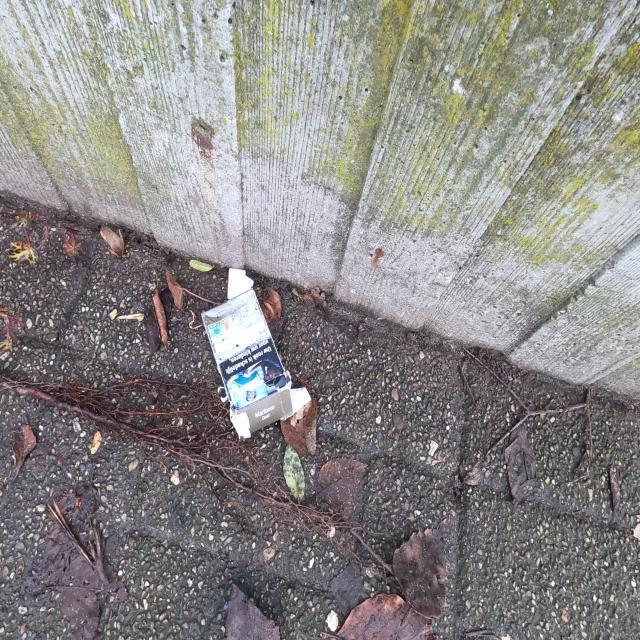Paper: (200, 268, 313, 440)
